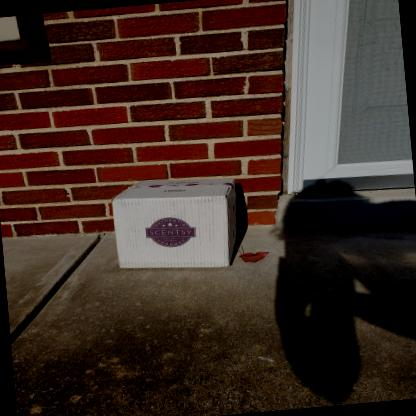box: (112, 176, 243, 273)
